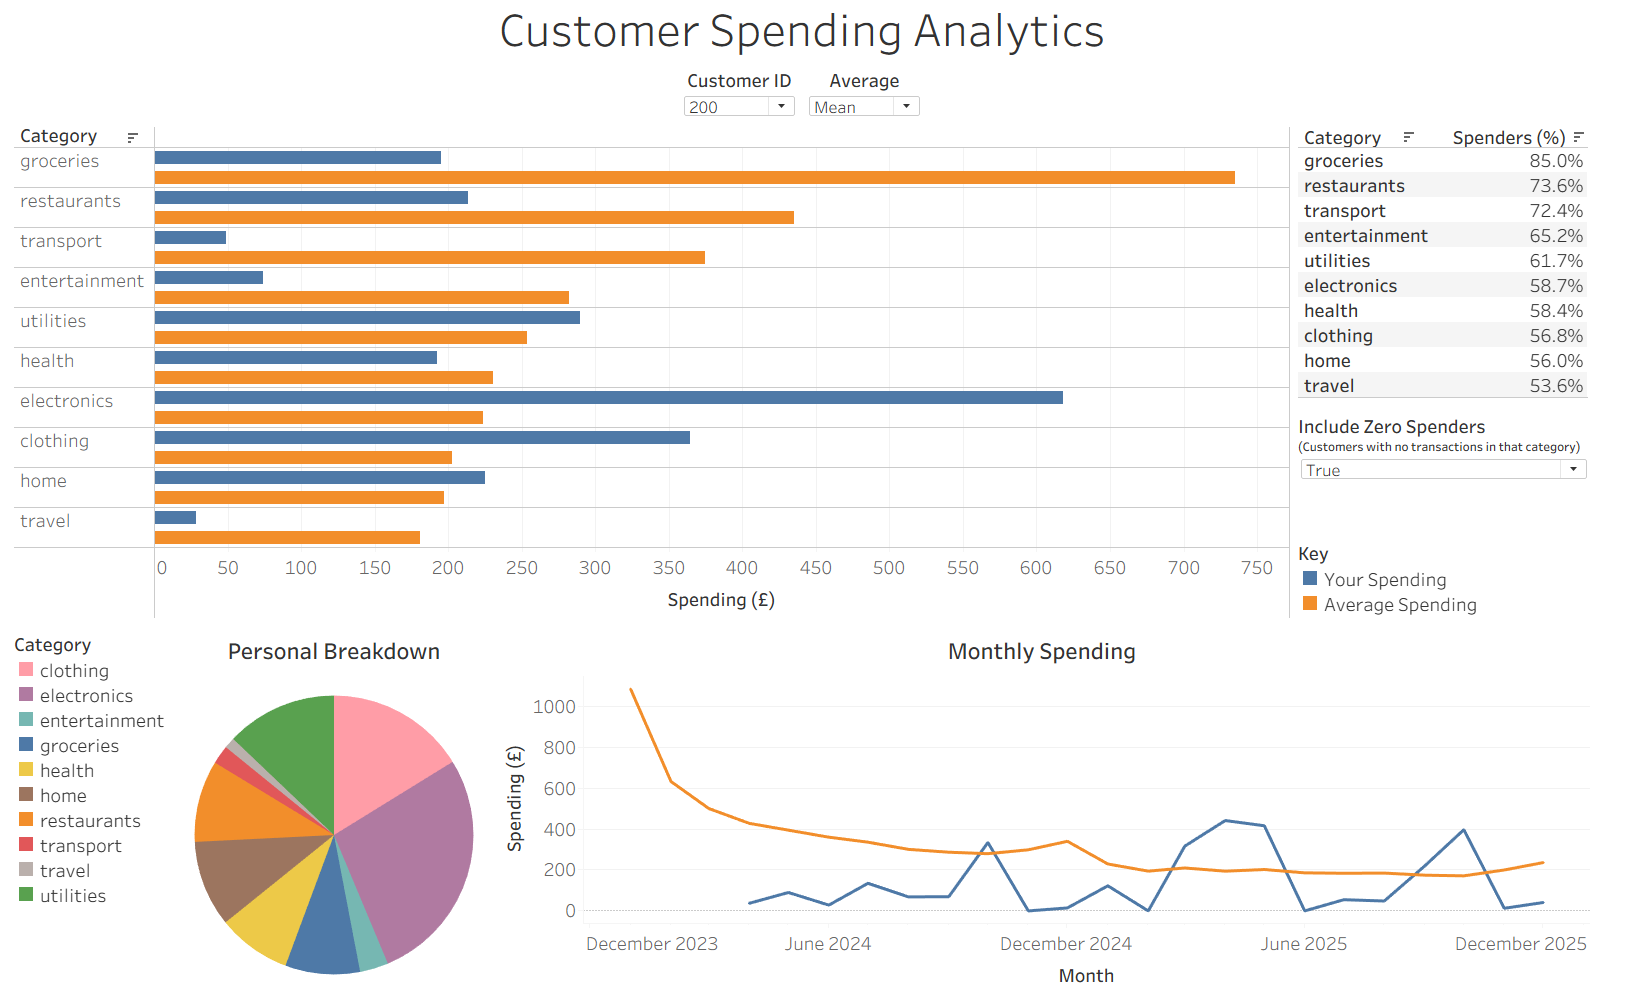

The dashboard page shown, as its layout file describes it:
{"tool":"tableau","page":{"name":"Customer Spending Analytics Dashboard","canvas":[1600,1020],"ordinal":0},"visuals":[{"type":"title","box":[8,8,1584,69]},{"type":"blank","box":[8,77,667,60]},{"type":"parameter","param":"[Parameters].[Parameter 1215841066459136]","box":[675,77,125,60]},{"type":"parameter","param":"[Parameters].[Parameter 1215841074999306]","box":[800,77,125,60]},{"type":"blank","box":[925,77,667,60]},{"type":"worksheet","title":"Spending by Category","mark":"Automatic","rows":["category"],"box":[8,137,1284,504]},{"type":"worksheet","title":"Percentage of Spenders by Category","mark":"Automatic","rows":["category"],"box":[1292,137,300,286]},{"type":"parameter","param":"[Parameters].[Parameter 1215841078718477]","box":[1292,423,300,77]},{"type":"blank","box":[1292,500,300,50]},{"type":"legend","title":"Spending by Category","param":"[federated.1gbn2121volhhz19r4a6u0wt4kkm].[:Measure Names]","box":[1292,550,300,84]},{"type":"legend","title":"Individual Spending Pie Chart","param":"[federated.1gbn2121volhhz19r4a6u0wt4kkm].[none:category:nk]","box":[8,641,168,371]},{"type":"worksheet","title":"Individual Spending Pie Chart","mark":"Pie","box":[176,641,312,371]},{"type":"worksheet","title":"Monthly Spending","mark":"Automatic","cols":["month"],"box":[488,641,1104,371]}]}

Visuals, with their boxes on the page's 1600x1020 design canvas (x1, y1, x2, y2). These are canvas units, not pixel positions in the 1638x996 screenshot, which may show the page scaled, cropped or inside an application window:
title: [left=8, top=8, right=1592, bottom=77]
blank: [left=8, top=77, right=675, bottom=137]
parameter: [left=675, top=77, right=800, bottom=137]
parameter: [left=800, top=77, right=925, bottom=137]
blank: [left=925, top=77, right=1592, bottom=137]
"Spending by Category" worksheet: [left=8, top=137, right=1292, bottom=641]
"Percentage of Spenders by Category" worksheet: [left=1292, top=137, right=1592, bottom=423]
parameter: [left=1292, top=423, right=1592, bottom=500]
blank: [left=1292, top=500, right=1592, bottom=550]
"Spending by Category" legend: [left=1292, top=550, right=1592, bottom=634]
"Individual Spending Pie Chart" legend: [left=8, top=641, right=176, bottom=1012]
"Individual Spending Pie Chart" worksheet (Pie marks): [left=176, top=641, right=488, bottom=1012]
"Monthly Spending" worksheet: [left=488, top=641, right=1592, bottom=1012]
